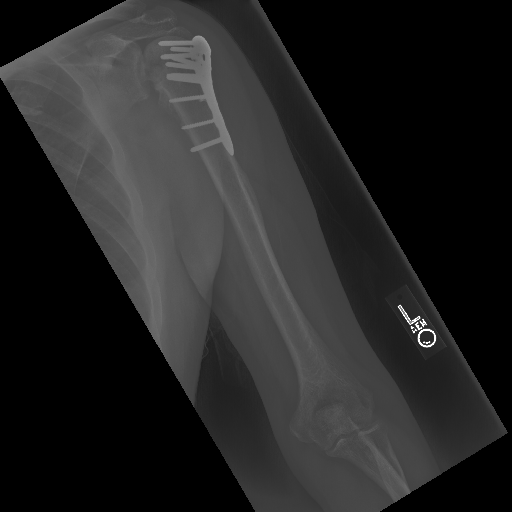implant: (154, 31, 238, 164)
